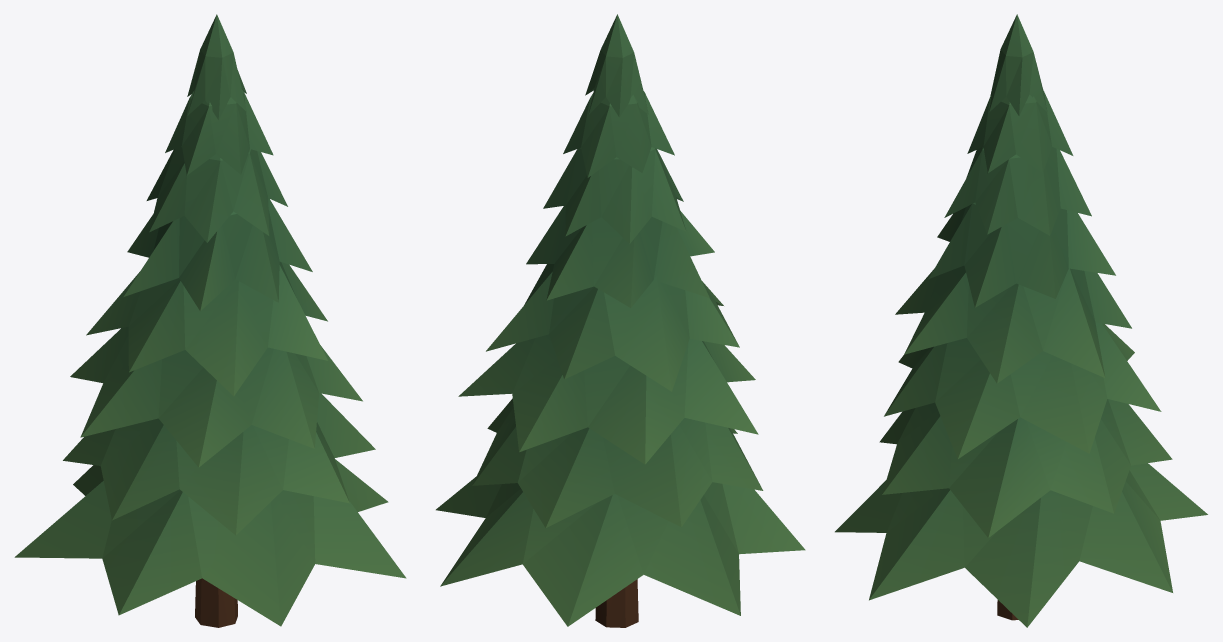
The model's file is tree_pine.glb.
3 views of the same model, side by side, from view 1: azimuth 30°, elevation 25°; view 2: azimuth 150°, elevation 25°; view 3: azimuth 270°, elevation 25° (orthographic).
Visible parts, largest first — view 1: Pine; view 2: Pine; view 3: Pine.
Part boxes in pixels (x1,y1,x2,y2): Pine: (14,14,406,627); Pine: (436,14,805,627); Pine: (835,14,1207,627).
Size of what is drawn, in the model's own units: 5.3 by 9 by 5.11.
